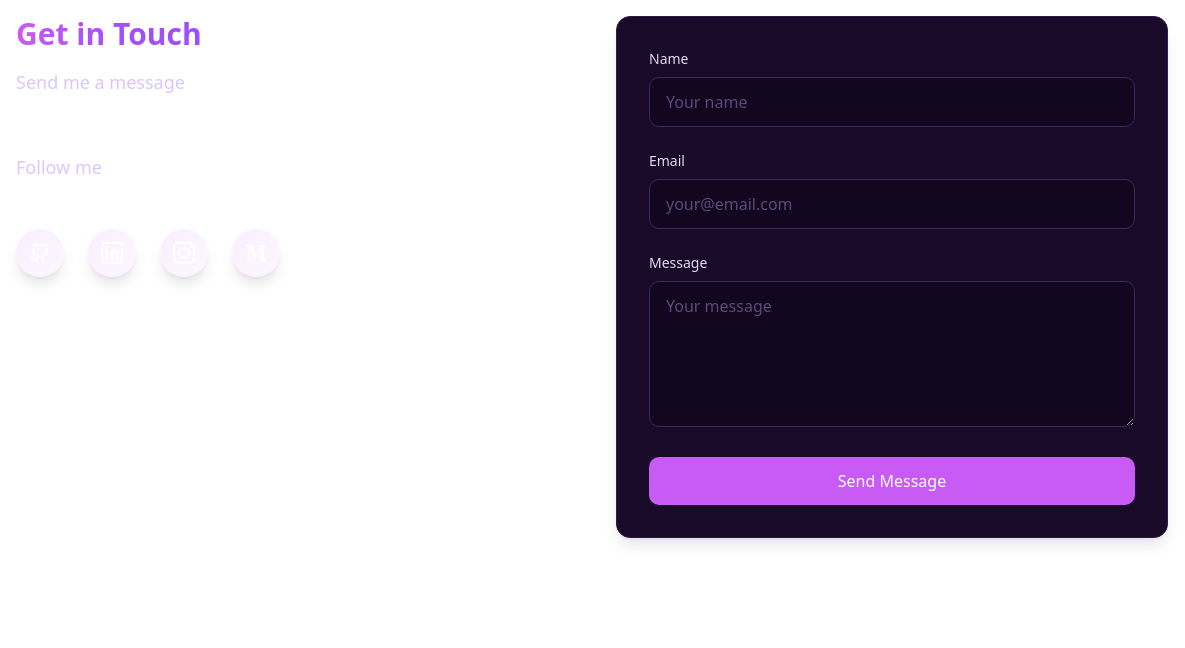
Test case: ContactForm › form validation › shows error when name is empty
Click the button "Send Message" at coordinates (892, 481), box [649,457,1135,505]
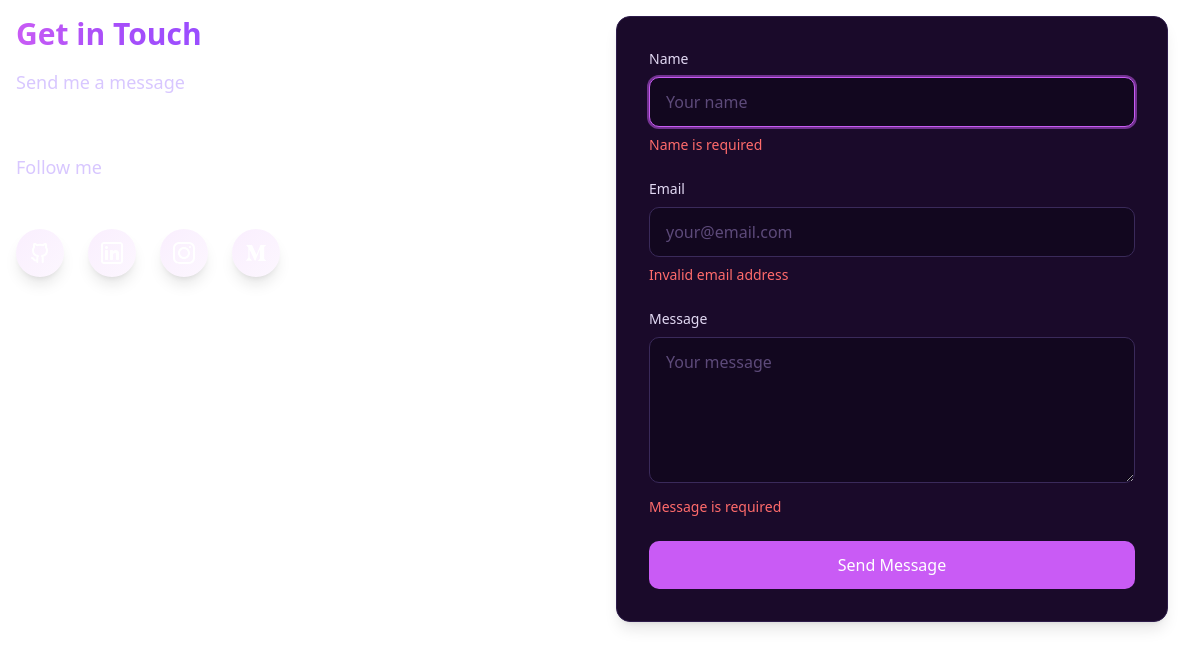
Now the text "Name is required" is shown, box [649,135,762,154]
